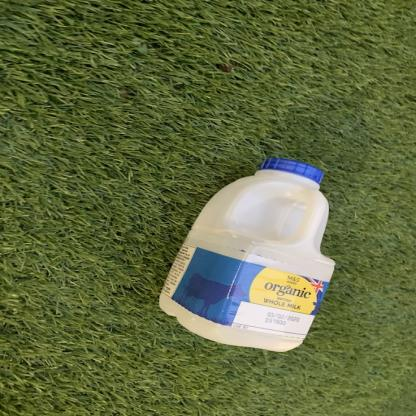trash: (156, 156, 338, 356)
